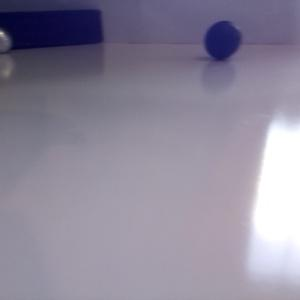zone: (1, 9, 103, 50)
